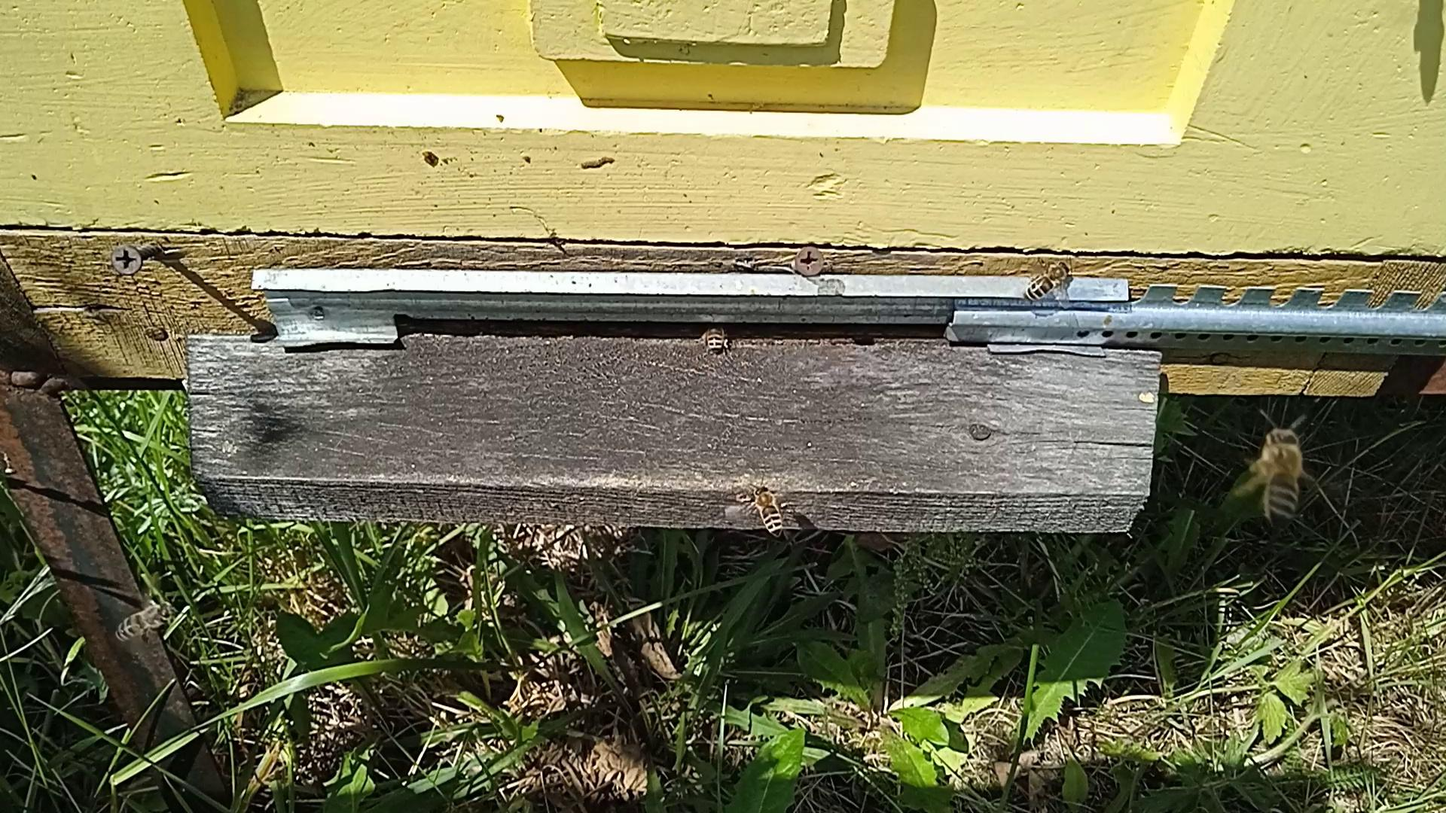worker-bee: (1258, 425, 1304, 527), (114, 601, 173, 644), (752, 483, 785, 537), (1027, 261, 1072, 300), (698, 323, 733, 356)
